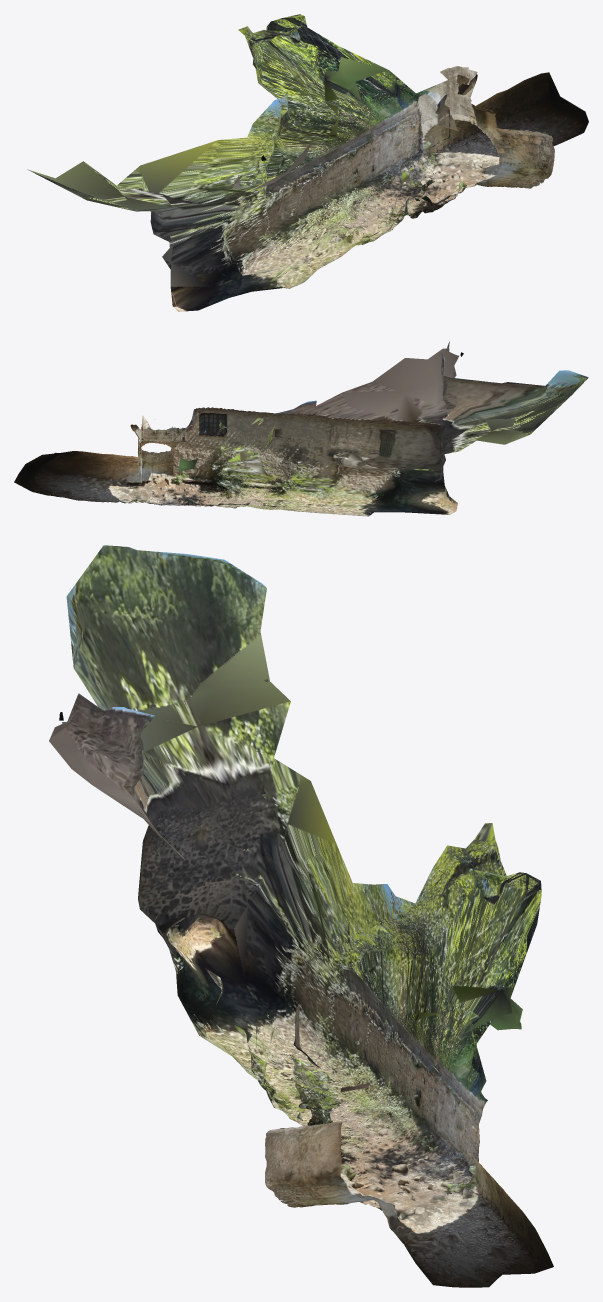
3 renders of one model, top to bottom at view 1: azimuth 30°, elevation 25°; view 2: azimuth 150°, elevation 25°; view 3: azimuth 270°, elevation 25°, orthographic. The views are drawn at different scales.
Parts seen in each view (by area): view 1: high.036; view 2: high.036; view 3: high.036.
Part boxes in pixels (box(x1,y1,x2,y2)): high.036: box(27, 14, 588, 311); high.036: box(14, 341, 588, 516); high.036: box(49, 545, 553, 1287).
Size of the model in its own units: 28.7 by 9.16 by 13.54.
Materials: 1 (1 with a texture image).
